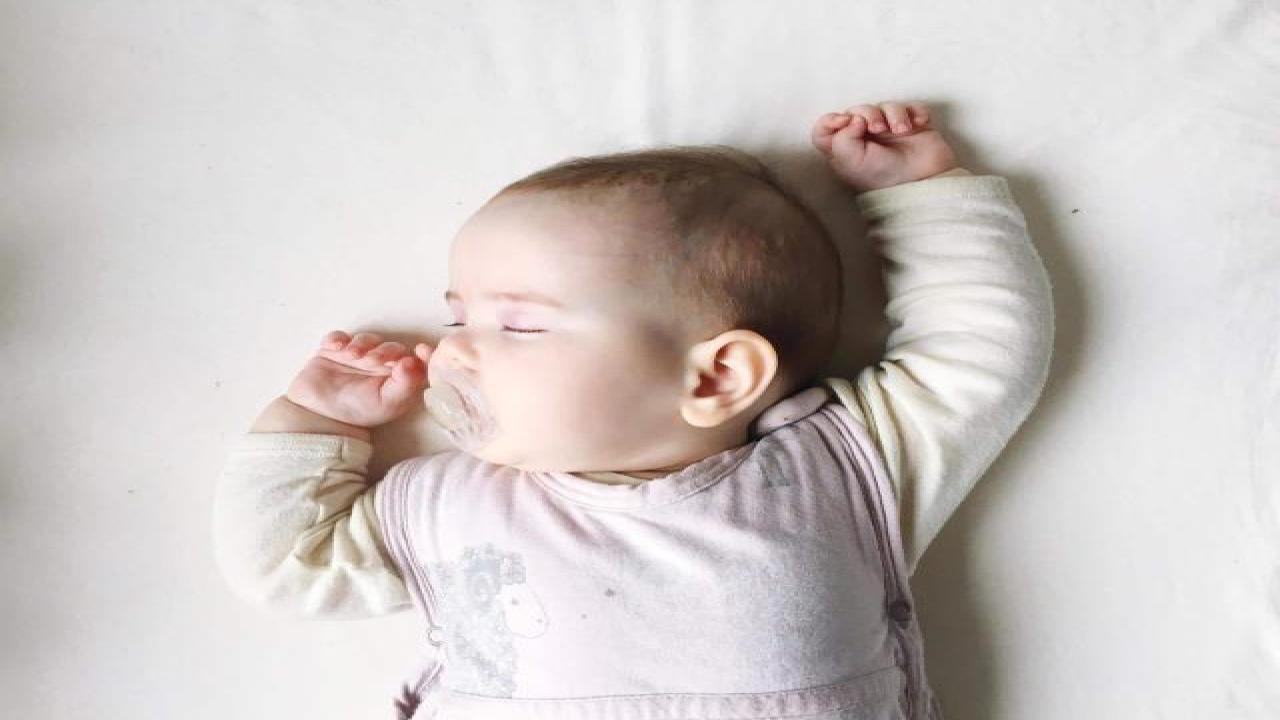hand: (813, 96, 960, 197), (287, 331, 428, 424)
